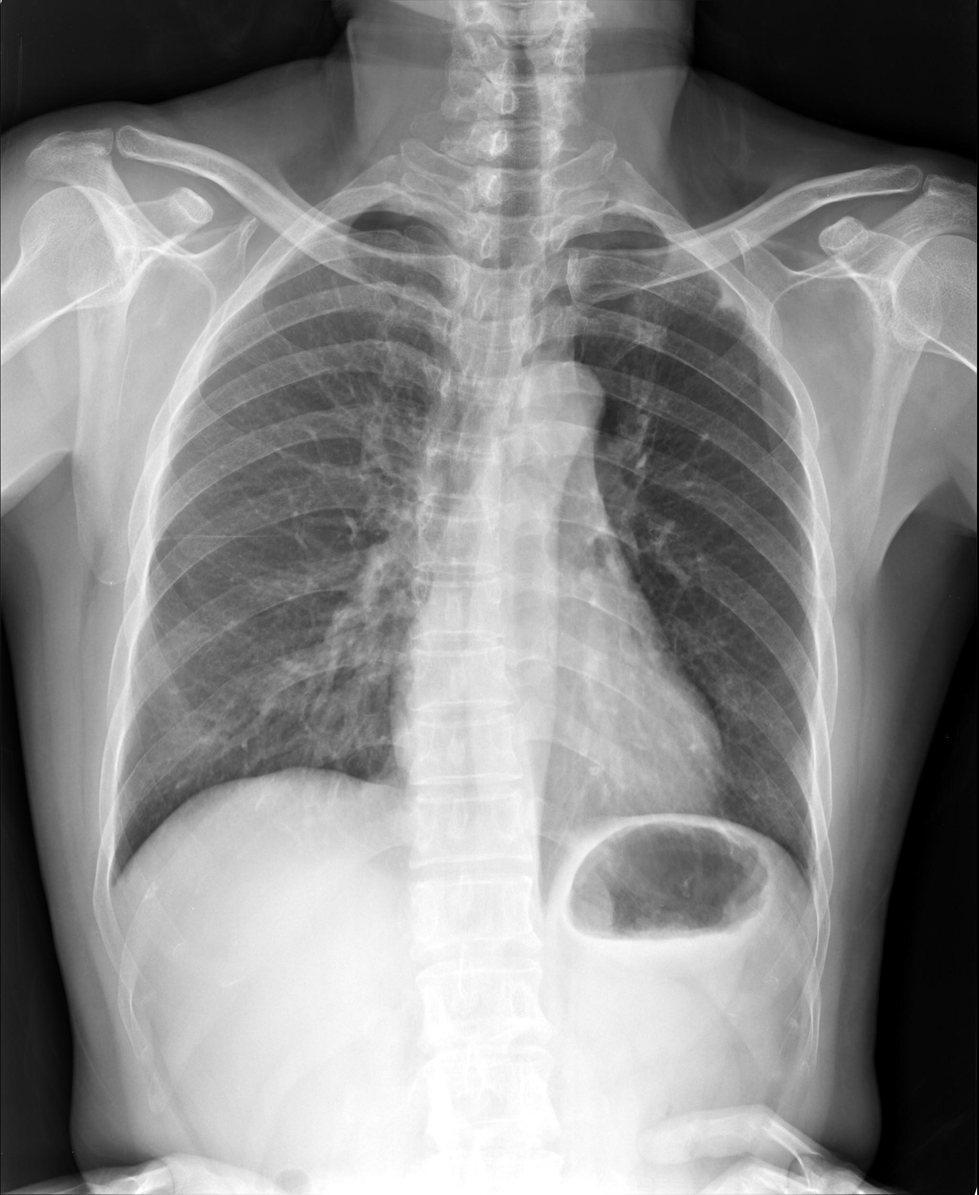Pleural thickening: (713, 277, 759, 322)
Pulmonary fibrosis: (713, 277, 759, 322)
